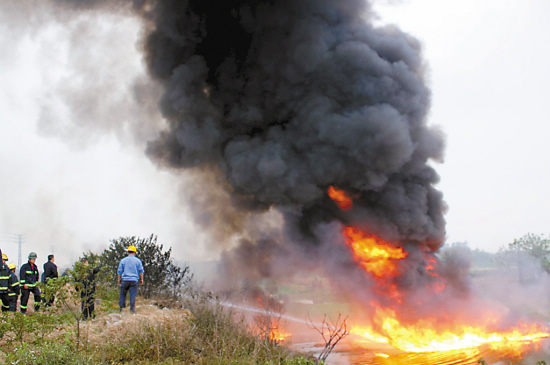fire: (319, 171, 547, 352)
